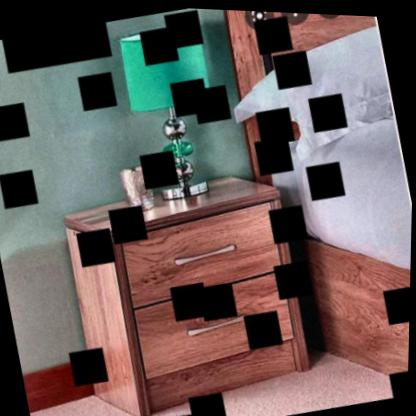Lamp: (110, 15, 232, 204)
Nightstand: (53, 154, 326, 416)
